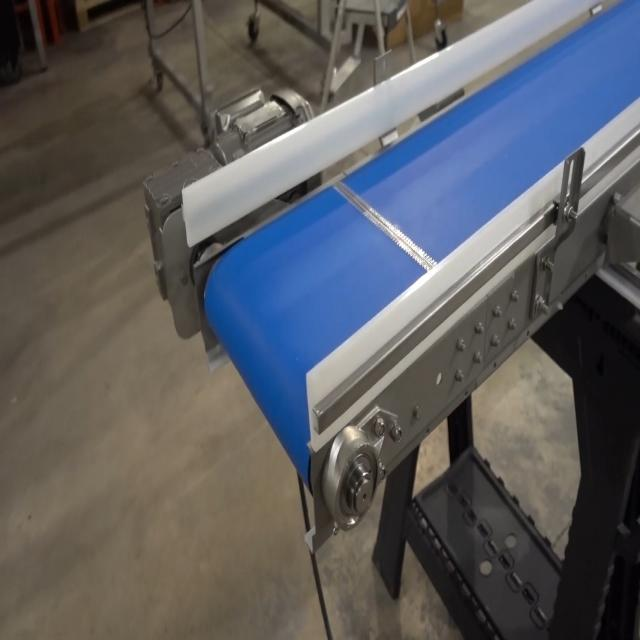Convoyeur: (152, 0, 639, 573)
